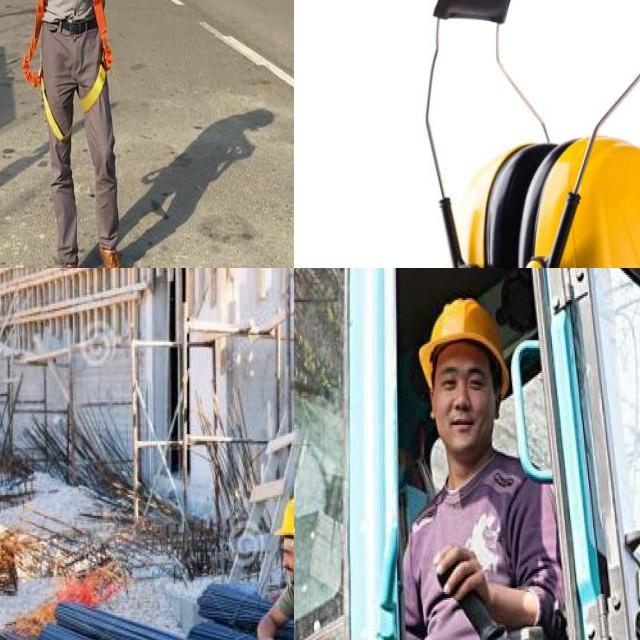Ear-protection: (403, 0, 640, 268)
Harness: (23, 0, 71, 142), (81, 0, 113, 114)
No_Glasses: (436, 366, 492, 397)
face_nomask: (439, 369, 490, 439)
hand_noglove: (428, 542, 488, 603)
head_helmet: (414, 298, 510, 382), (272, 492, 294, 542)
person: (389, 295, 559, 640)
